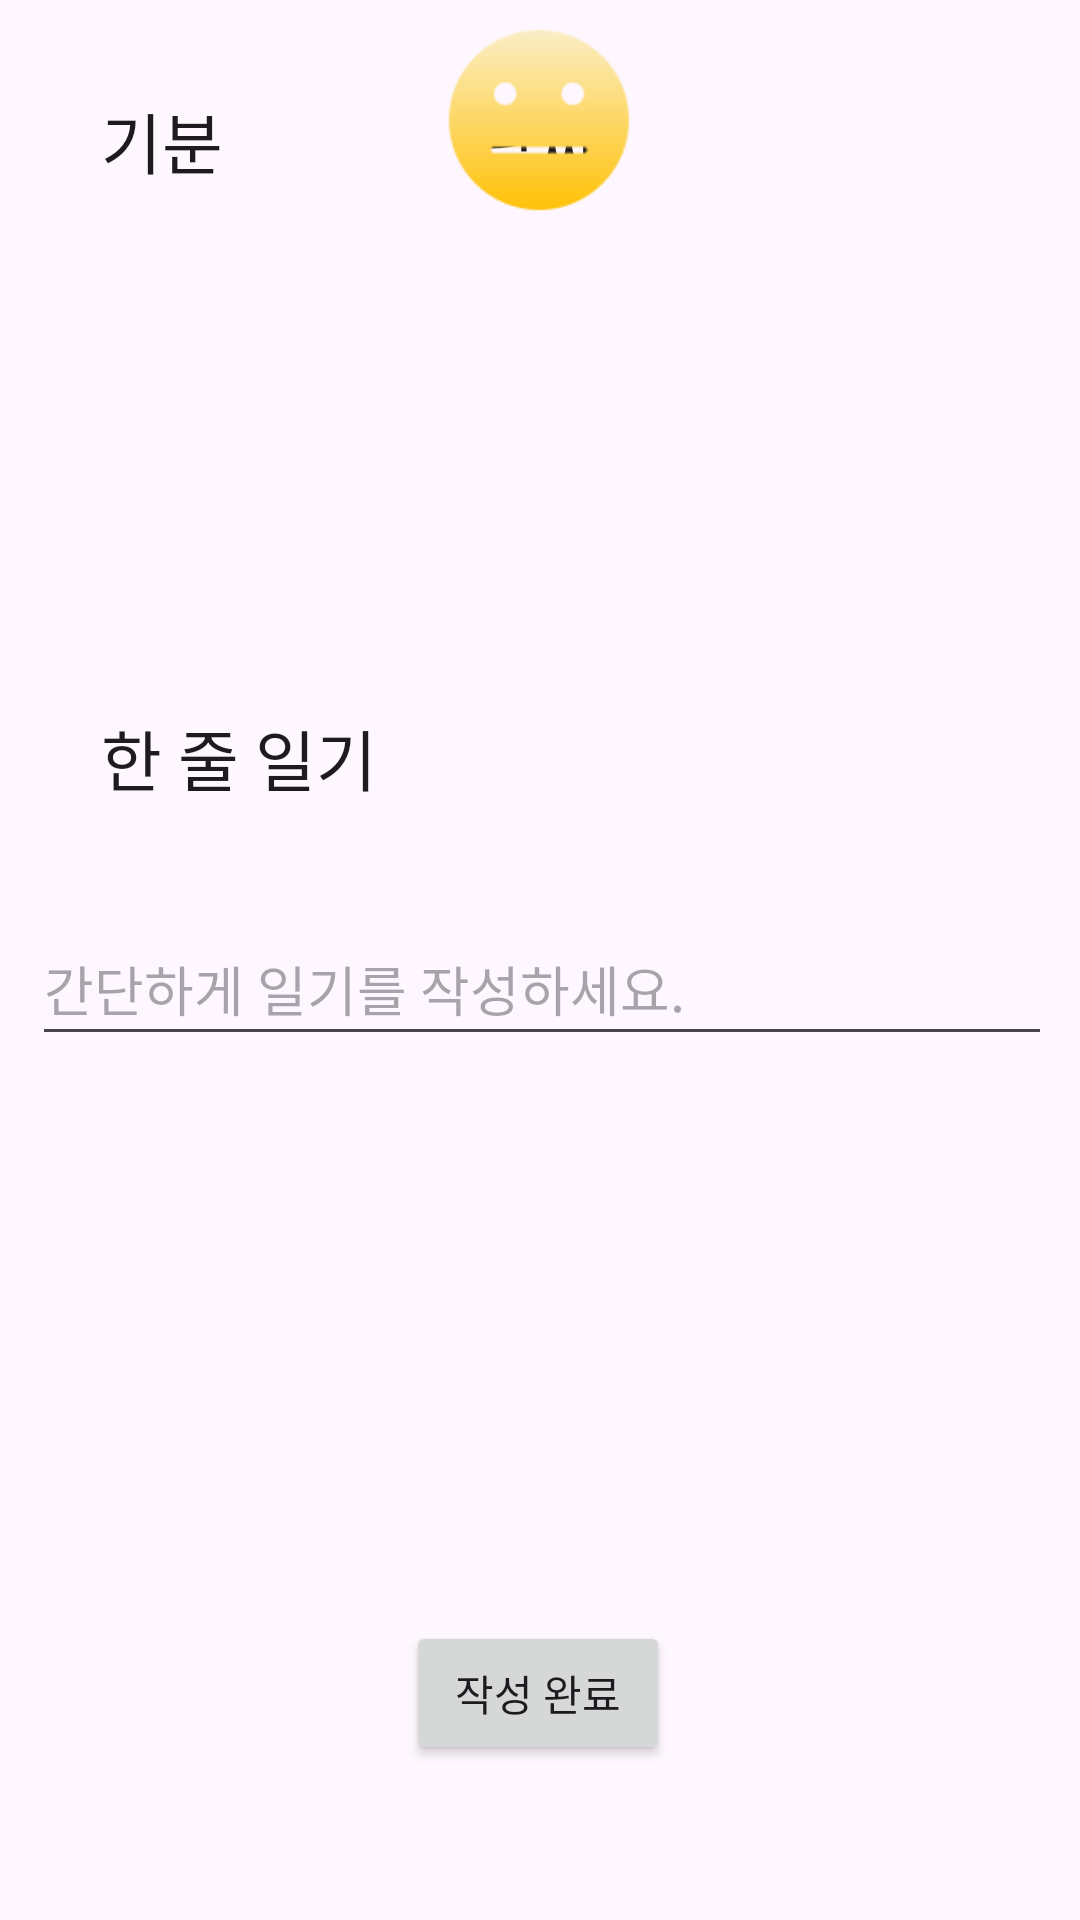

Icon click points for this 1080*1920 phone screenshot, format (x,y):
mood soso: (539,120)
